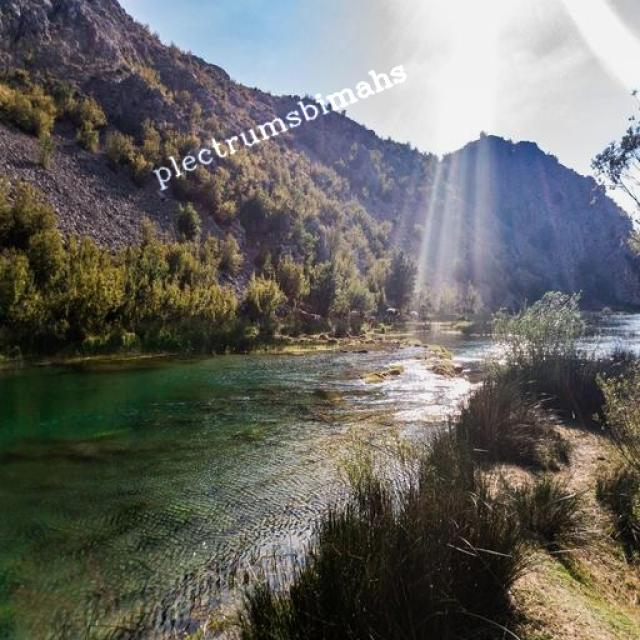watermark: (149, 55, 407, 188)
